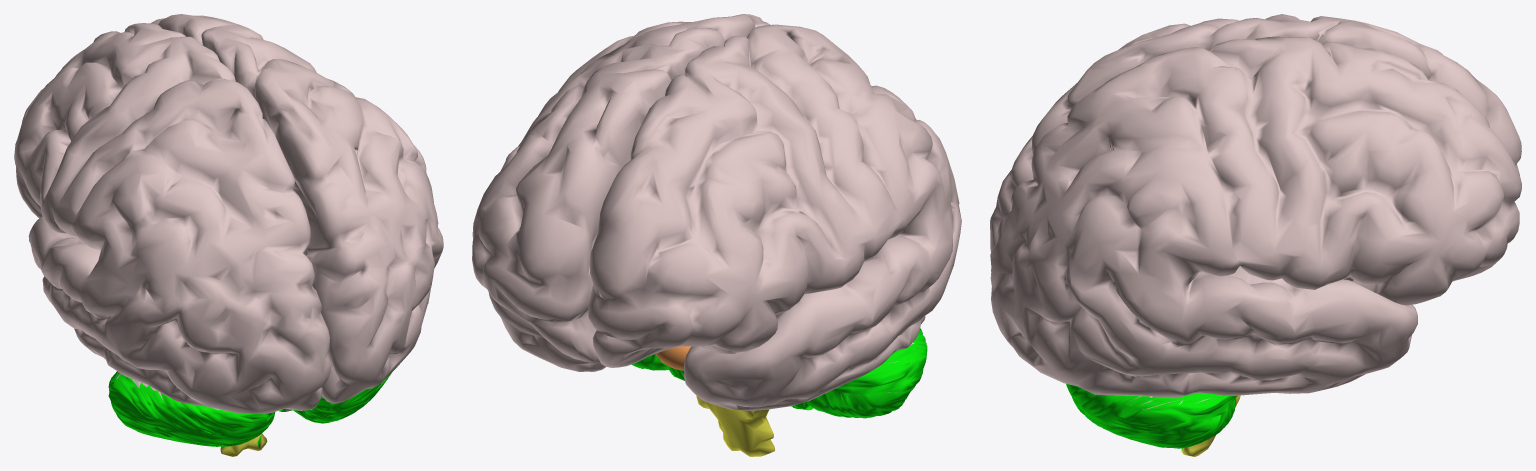
Rendered from Brain.fbx.
The picture shows the model from 3 angles, left to right: view 1: azimuth 30°, elevation 25°; view 2: azimuth 150°, elevation 25°; view 3: azimuth 270°, elevation 25°; orthographic projection. The views are drawn at different scales.
Parts seen in each view (by area): view 1: Brain; view 2: Brain; view 3: Brain.
Part boxes in pixels (x1,y1,x2,y2): Brain: (14,14,443,456); Brain: (472,14,961,456); Brain: (990,14,1521,456).
Size of the model in its own units: 529 by 561 by 640.
